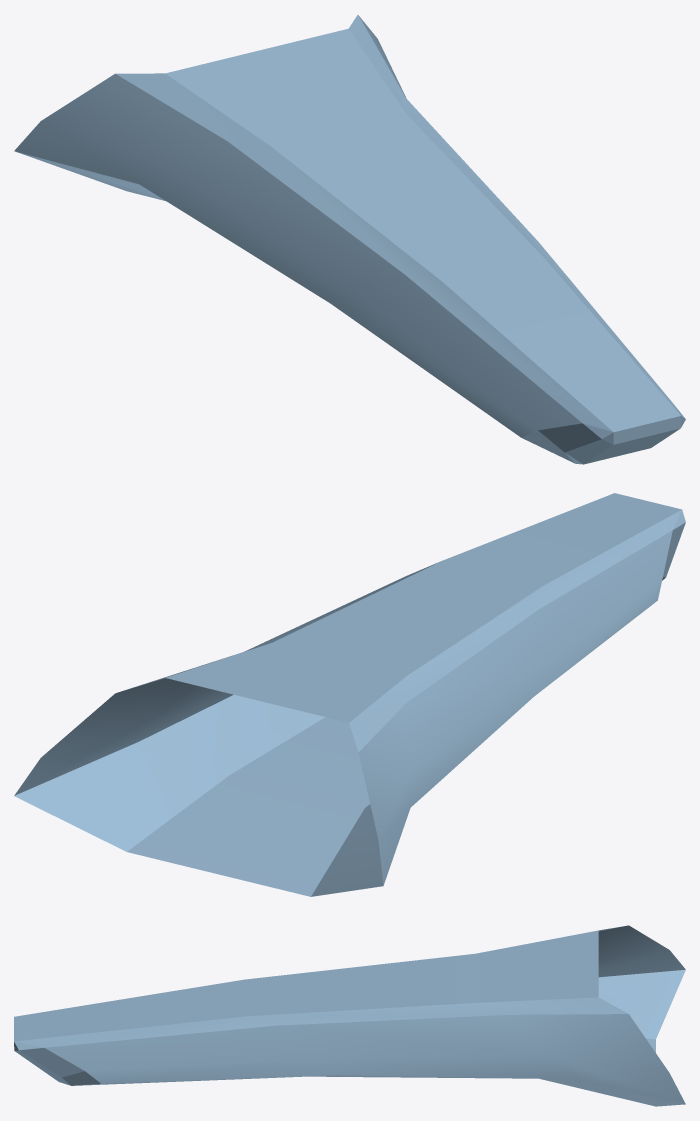
The model's file is long nose.FBX.
The picture shows the model from 3 angles, top to bottom: view 1: azimuth 30°, elevation 25°; view 2: azimuth 150°, elevation 25°; view 3: azimuth 270°, elevation 25°; orthographic projection. The views are drawn at different scales.
Visible parts, largest first — view 1: Box14; view 2: Box14; view 3: Box14.
Part boxes in pixels (box(x1,y1,x2,y2)): Box14: box(14, 15, 685, 464); Box14: box(14, 493, 685, 896); Box14: box(14, 925, 685, 1106).
Bounding box in the file's own units: 0.0567 × 0.1195 × 0.0215.
